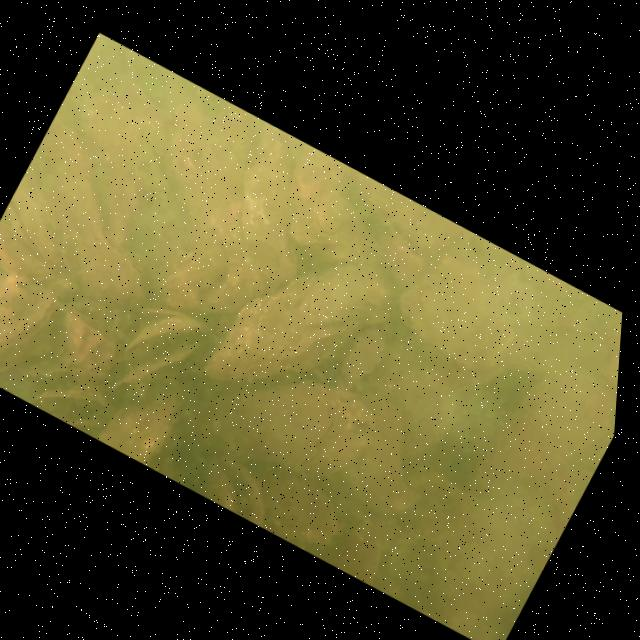Oyster-Closed: (197, 220, 403, 444), (177, 332, 353, 500), (379, 257, 528, 387), (0, 184, 82, 273)
Oyster-Indeterminate: (459, 342, 620, 542), (2, 113, 144, 262), (153, 205, 295, 346), (314, 387, 454, 530), (40, 223, 162, 335), (232, 457, 357, 564), (96, 378, 186, 472)
Oyster-Open: (104, 292, 216, 419), (333, 311, 416, 405), (187, 447, 283, 528), (0, 260, 65, 371), (33, 370, 117, 441)
